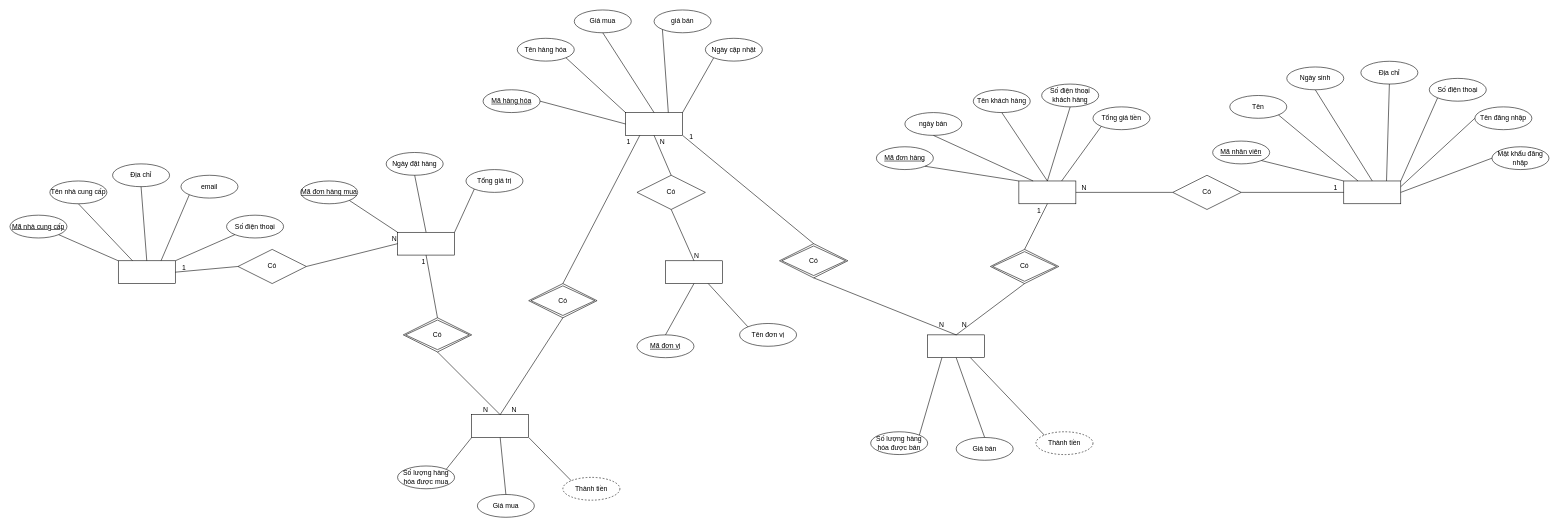
Some shapes in this 1559 by 527 pixel diagram are drawn without their labels. Here are the shapes that lost their labels. From the top down, the centre of each, then its label:
the point at 654,123: Hàng Hóa
the point at 1047,192: Đơn hàng bán
the point at 1372,192: Nhân viên
the point at 426,243: Đơn hàng mua
the point at 146,272: Nhà cung cấp
the point at 693,272: Đơn vị
the point at 956,346: Chi tiết đơn hàng bán
the point at 500,425: Chi tiết đơn hàng mua
